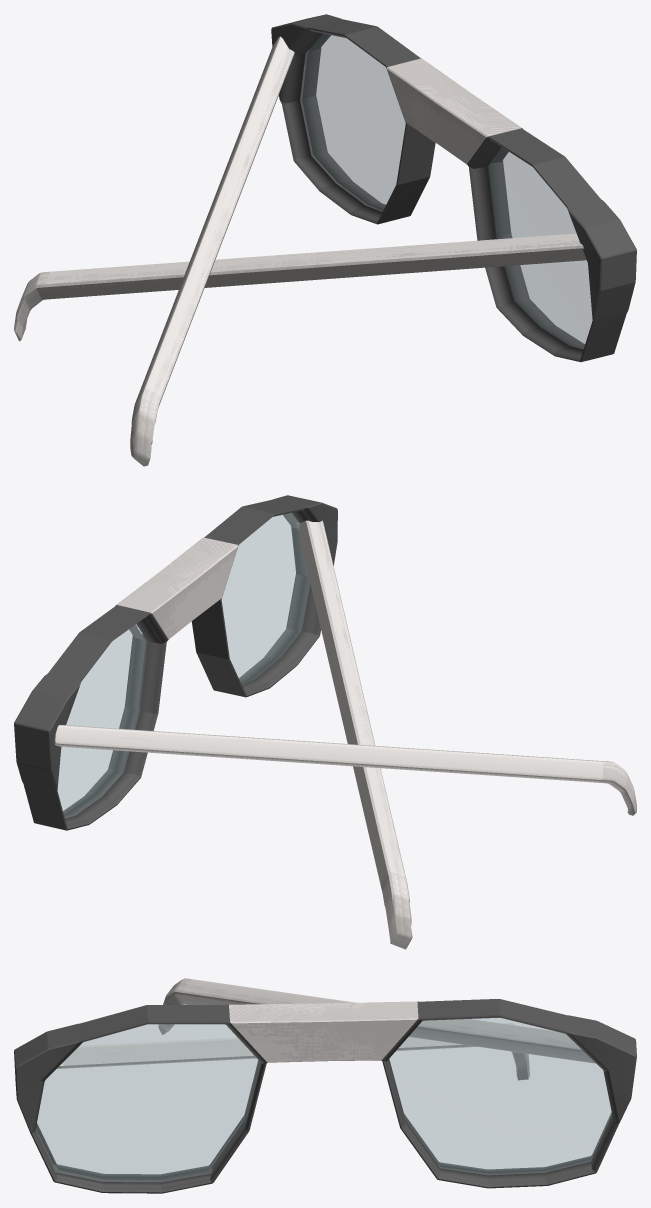
Rendered from eye glasses.fbx.
3 renders of one model, top to bottom at view 1: azimuth 30°, elevation 25°; view 2: azimuth 150°, elevation 25°; view 3: azimuth 270°, elevation 25°, orthographic. The views are drawn at different scales.
Parts seen in each view (by area): view 1: glasses, pCube1, pCube2; view 2: glasses, pCube2, pCube1; view 3: glasses, pCube2, pCube1.
Boxes of the visible parts, <box> form: glasses: <box>271,14,636,362</box>; pCube1: <box>14,233,586,341</box>; pCube2: <box>130,36,294,466</box>; glasses: <box>14,495,337,830</box>; pCube2: <box>54,725,636,815</box>; pCube1: <box>296,520,412,949</box>; glasses: <box>14,999,636,1193</box>; pCube2: <box>158,978,595,1063</box>; pCube1: <box>57,1023,529,1080</box>.
Size of the model in its own units: 30.39 by 16.15 by 39.
